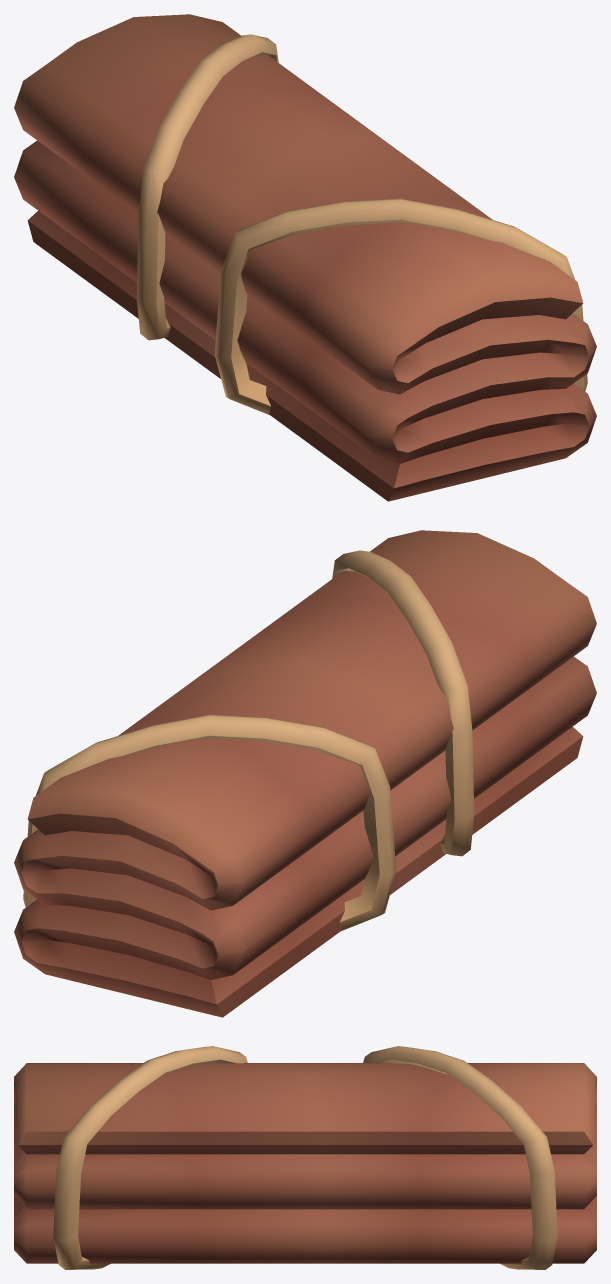
Rendered from Textiles_C.glb.
3 renders of one model, top to bottom at view 1: azimuth 30°, elevation 25°; view 2: azimuth 150°, elevation 25°; view 3: azimuth 270°, elevation 25°, orthographic. The views are drawn at different scales.
Parts seen in each view (by area): view 1: Textiles_C; view 2: Textiles_C; view 3: Textiles_C.
Part boxes in pixels (x1,y1,x2,y2): Textiles_C: [14, 14, 596, 501]; Textiles_C: [14, 530, 596, 1017]; Textiles_C: [14, 1046, 596, 1269].
Bounding box in the file's own units: 0.6142 × 0.5225 × 1.55.
1 material, 1 textured.
